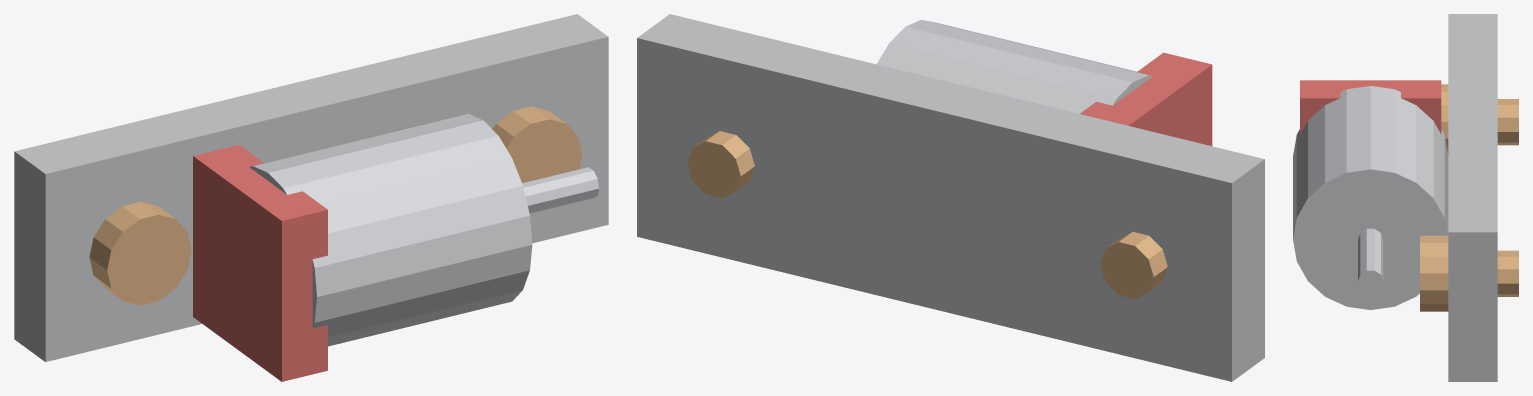
Rendered from snap_motor.glb.
3 views of the same model, side by side, from view 1: azimuth 30°, elevation 25°; view 2: azimuth 150°, elevation 25°; view 3: azimuth 270°, elevation 25° (orthographic). The views are drawn at different scales.
Parts seen in each view (by area): view 1: plastic_gray, steel, plastic_red, copper; view 2: plastic_gray, steel, plastic_red, copper; view 3: steel, plastic_gray, copper, plastic_red.
Part boxes in pixels (x1,y1,x2,y2): plastic_gray: (14,14,608,361); steel: (249,113,599,346); plastic_red: (193,145,327,381); copper: (89,106,582,305); plastic_gray: (637,14,1264,381); steel: (877,19,1152,113); plastic_red: (1080,52,1212,145); copper: (687,131,1167,299); steel: (1293,86,1448,309); plastic_gray: (1448,14,1497,381); copper: (1420,84,1518,311); plastic_red: (1300,80,1441,133).
Size of the model in its own units: 0.0732 by 0.0234 by 0.032.
